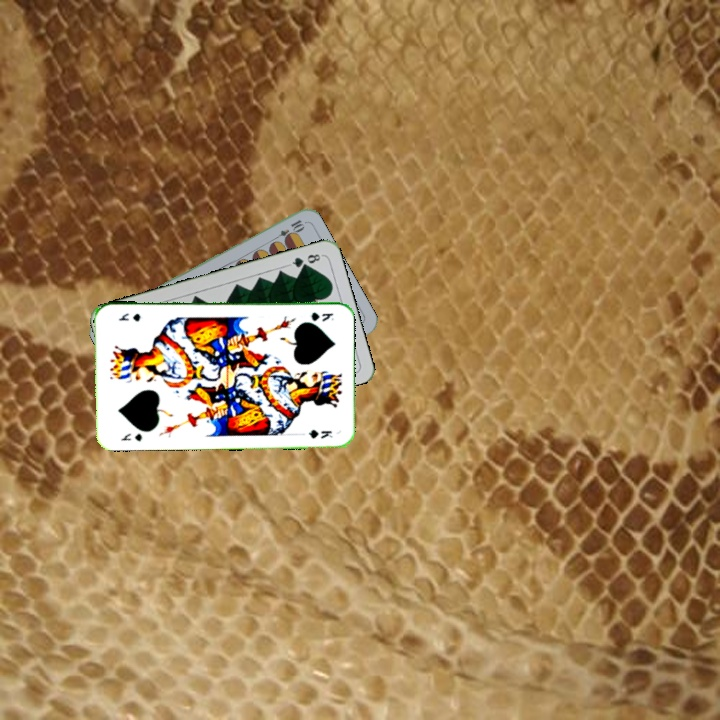E10: (269, 215, 306, 244)
G8: (285, 250, 325, 270)
GK: (307, 308, 336, 323), (117, 429, 144, 444)
